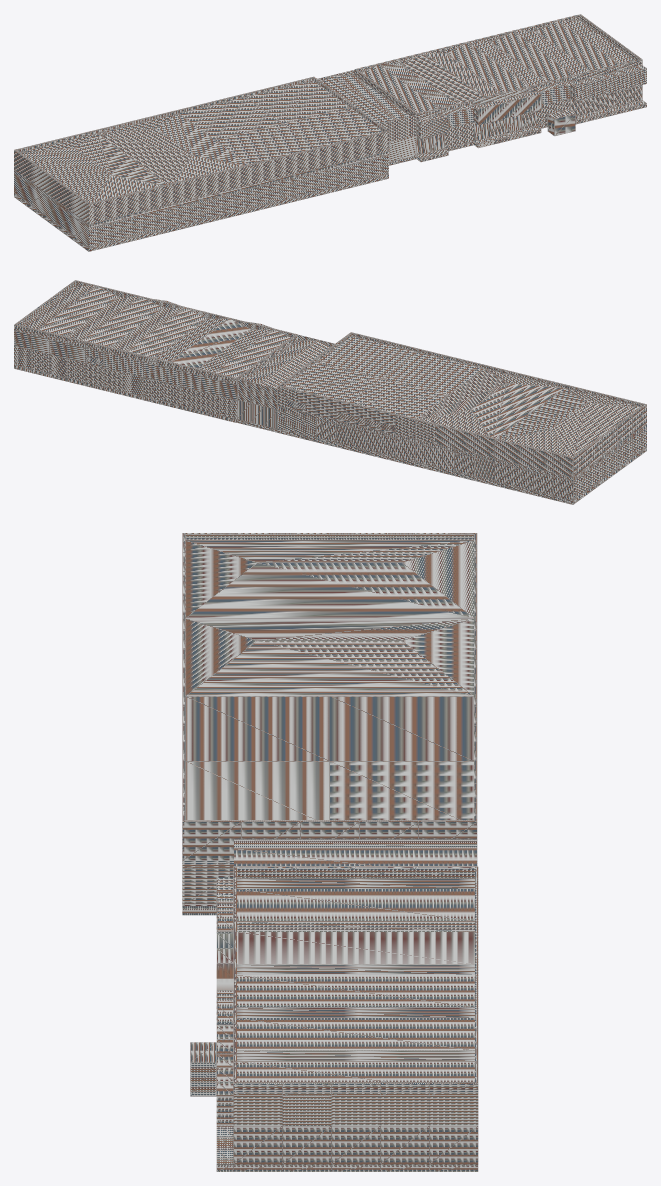
File: carga_skcl.gltf
3 renders of one model, top to bottom at view 1: azimuth 30°, elevation 25°; view 2: azimuth 150°, elevation 25°; view 3: azimuth 270°, elevation 25°, orthographic. The views are drawn at different scales.
Visible parts, largest first — view 1: node1; view 2: node1; view 3: node1.
Boxes of the visible parts, x1=… form: node1: x1=14, y1=14, x2=646, y2=251; node1: x1=14, y1=280, x2=646, y2=504; node1: x1=182, y1=533, x2=478, y2=1171.
Bounding box in the file's own units: 153 × 13.6 × 35.16.
